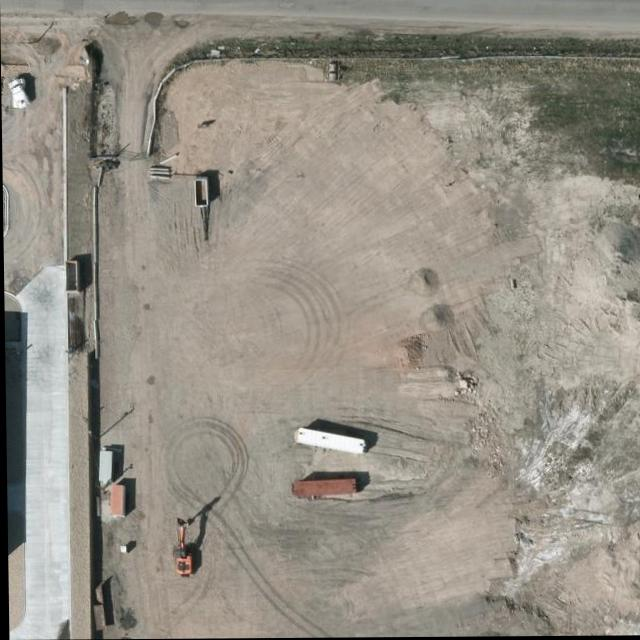vehicle: (9, 78, 29, 109)
